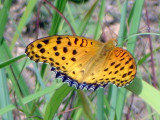Argyreus hyperbius: (24, 31, 142, 91)
butterfly: (23, 30, 141, 90)
